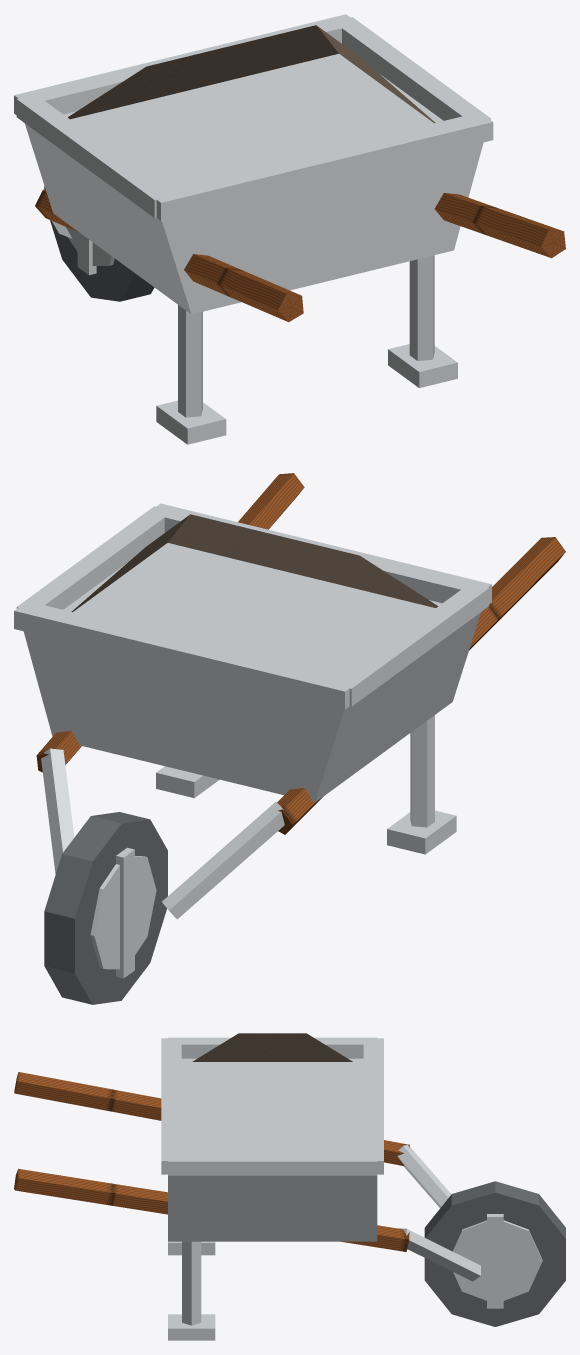
Rendered from allotments-and-community-garden-wheelbarrow-20790b05__35156.glb.
3 views of the same model, one above another, from view 1: azimuth 30°, elevation 25°; view 2: azimuth 150°, elevation 25°; view 3: azimuth 270°, elevation 25° (orthographic). The views are drawn at different scales.
Visible parts, largest first — view 1: wheelbarrow-galv, wheelbarrow-soil, wheelbarrow-timber, wheel/charcoal, wheel/galv; view 2: wheelbarrow-galv, wheel/charcoal, wheelbarrow-soil, wheelbarrow-timber, wheel/galv; view 3: wheelbarrow-galv, wheel/charcoal, wheelbarrow-timber, wheel/galv, wheelbarrow-soil.
Part boxes in pixels (<box>): wheelbarrow-galv: <box>14,14,493,444</box>; wheelbarrow-soil: <box>68,25,435,123</box>; wheelbarrow-timber: <box>35,189,565,322</box>; wheel/charcoal: <box>44,186,154,301</box>; wheel/galv: <box>67,232,114,275</box>; wheelbarrow-galv: <box>14,503,491,919</box>; wheel/charcoal: <box>44,812,167,1004</box>; wheelbarrow-soil: <box>71,514,438,611</box>; wheelbarrow-timber: <box>36,473,565,834</box>; wheel/galv: <box>90,847,156,978</box>; wheelbarrow-galv: <box>161,1037,480,1340</box>; wheel/charcoal: <box>424,1181,565,1326</box>; wheelbarrow-timber: <box>14,1072,409,1251</box>; wheel/galv: <box>452,1214,542,1308</box>; wheelbarrow-soil: <box>192,1033,352,1061</box>.
Bounding box in the file's own units: 0.87 × 0.84 × 1.64.
Materials: 4 (2 with a texture image).
